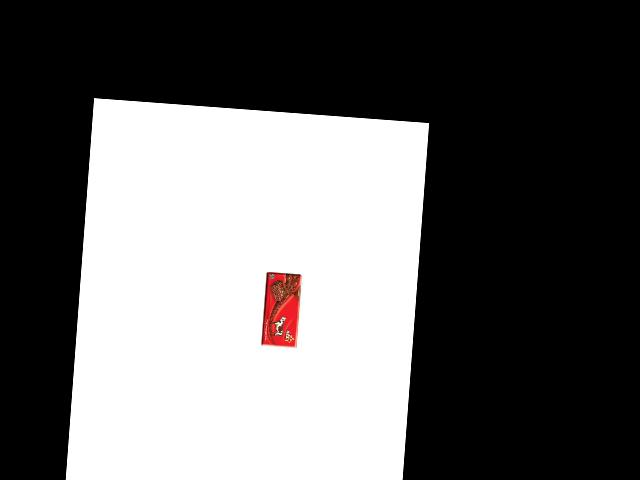chocolate: (257, 269, 303, 350)
